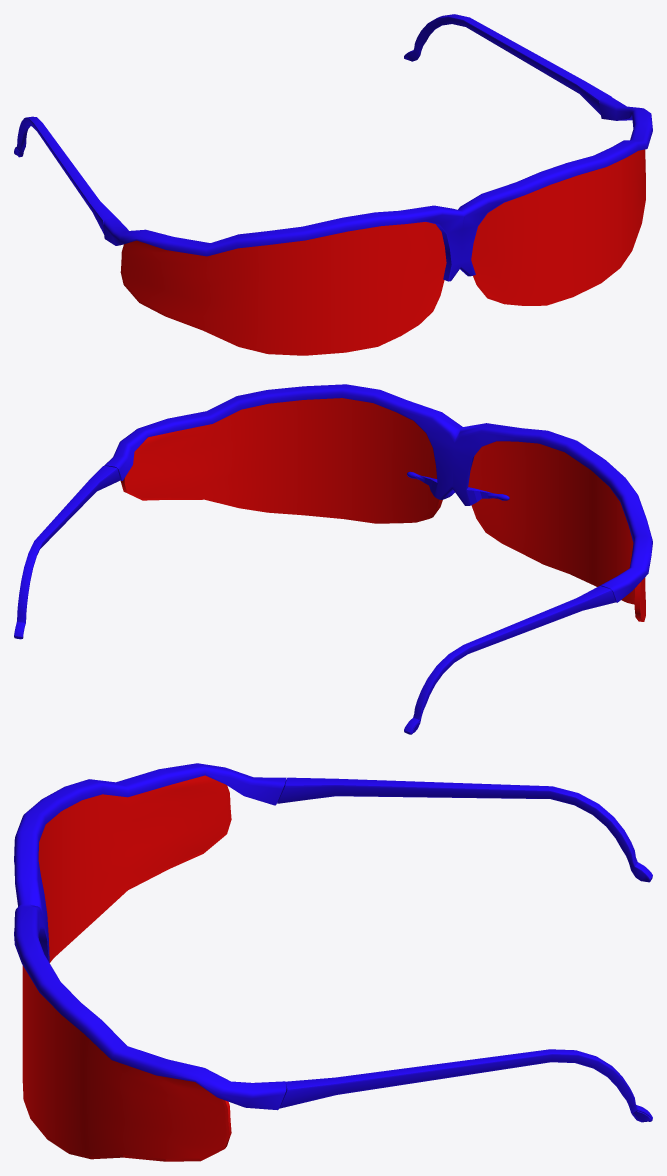
The model's file is Safety_Glasses.FBX.
3 views of the same model, one above another, from view 1: azimuth 30°, elevation 25°; view 2: azimuth 150°, elevation 25°; view 3: azimuth 270°, elevation 25° (orthographic). The views are drawn at different scales.
Visible parts, largest first — view 1: Glasses_Export; view 2: Glasses_Export; view 3: Glasses_Export.
Boxes of the visible parts, bbox=[...] form: Glasses_Export: bbox=[14, 14, 652, 355]; Glasses_Export: bbox=[14, 384, 652, 734]; Glasses_Export: bbox=[14, 763, 652, 1161].
Bounding box in the file's own units: 666 × 556 × 159.
